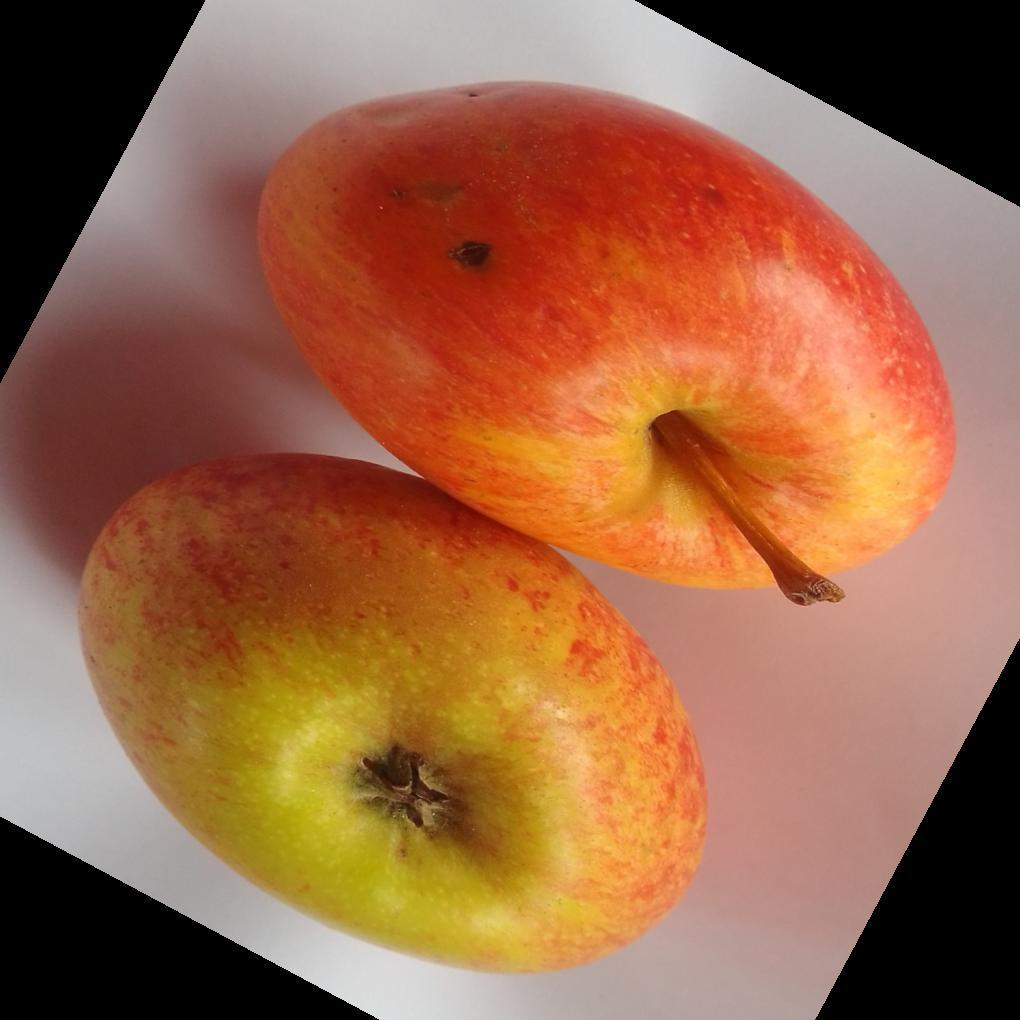FreshGuava: (76, 82, 959, 978)
